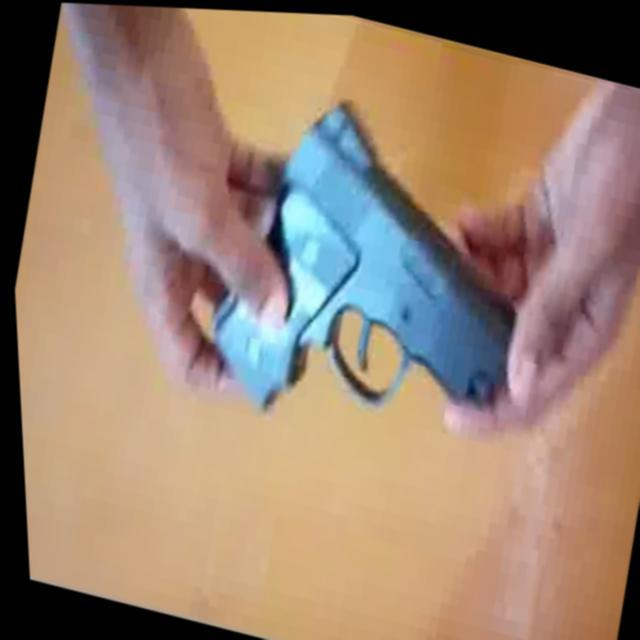weapon: (122, 54, 558, 470)
